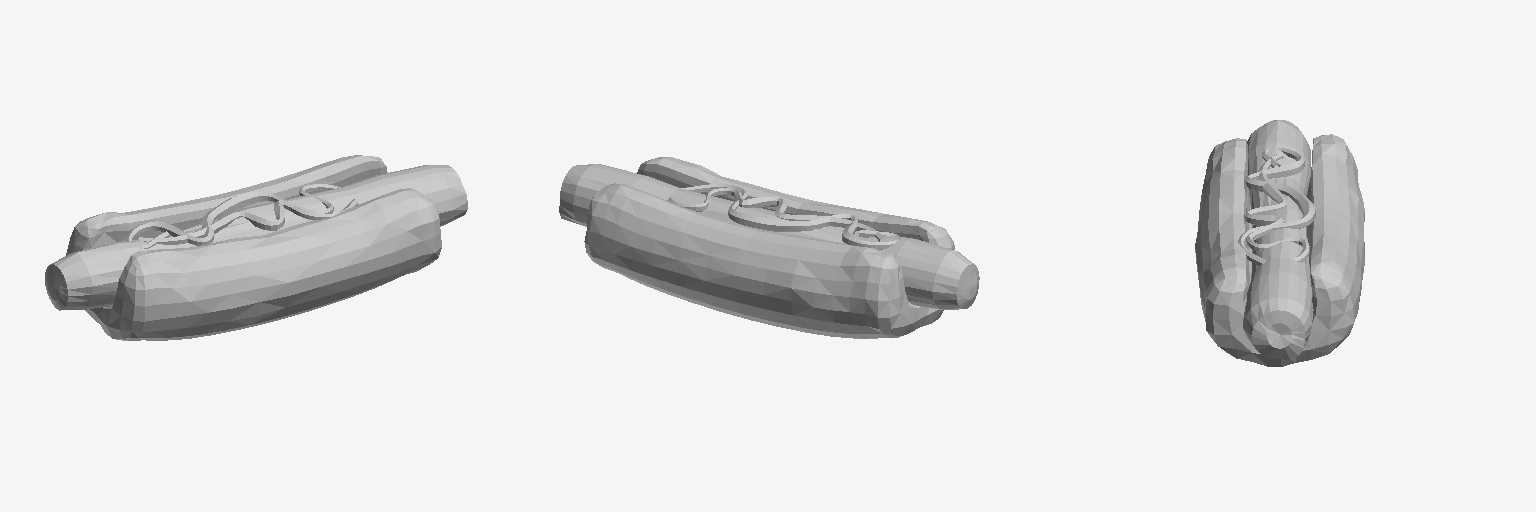
File: sandwich.obj
3 views of the same model, side by side, from view 1: azimuth 30°, elevation 25°; view 2: azimuth 150°, elevation 25°; view 3: azimuth 270°, elevation 25° (orthographic).
Parts seen in each view (by area): view 1: hotdog; view 2: hotdog; view 3: hotdog.
Part boxes in pixels (left/top/right/bottom): hotdog: left=45, top=155, right=467, bottom=340; hotdog: left=559, top=157, right=979, bottom=338; hotdog: left=1195, top=120, right=1364, bottom=366.
Size of the model in its own units: 3.01 by 0.7735 by 1.09.